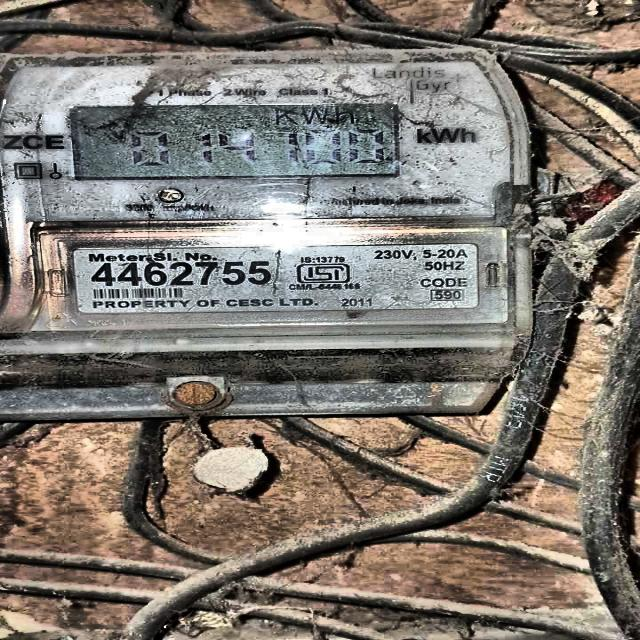Digital: (4, 54, 529, 360)
Reading: (115, 128, 401, 171)
Serial No.: (85, 262, 274, 286)
